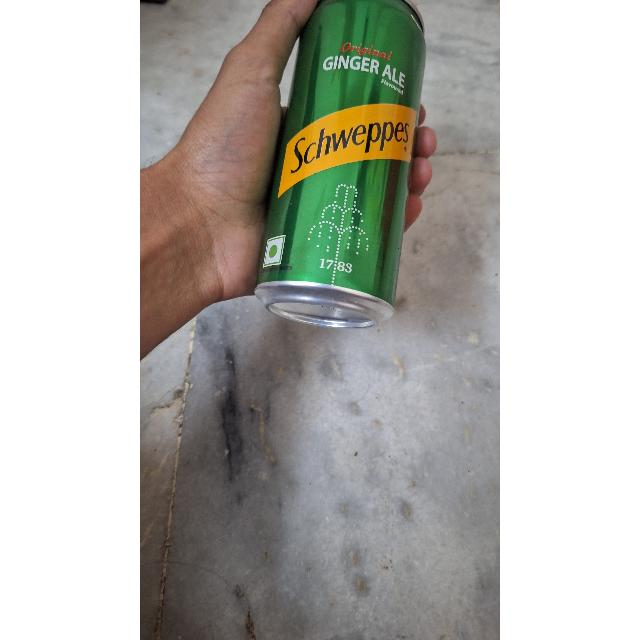Schweppes: (262, 0, 404, 314)
